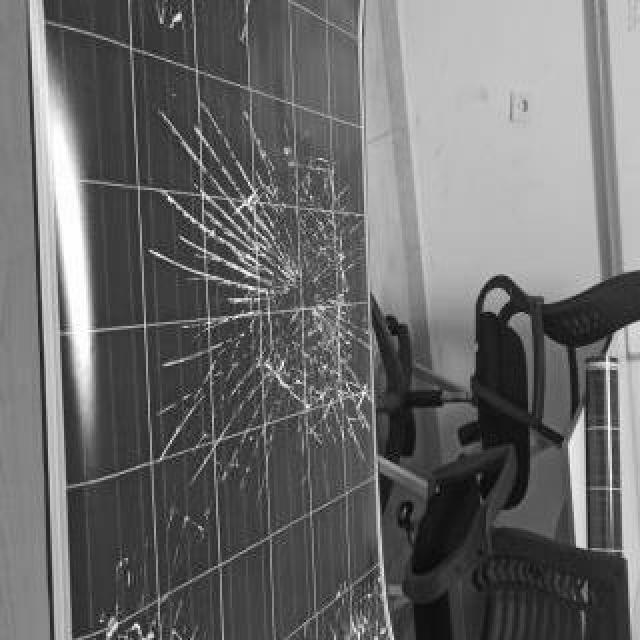Physical-damage: (138, 82, 362, 508), (98, 570, 210, 640), (314, 578, 386, 640), (142, 4, 192, 32)
